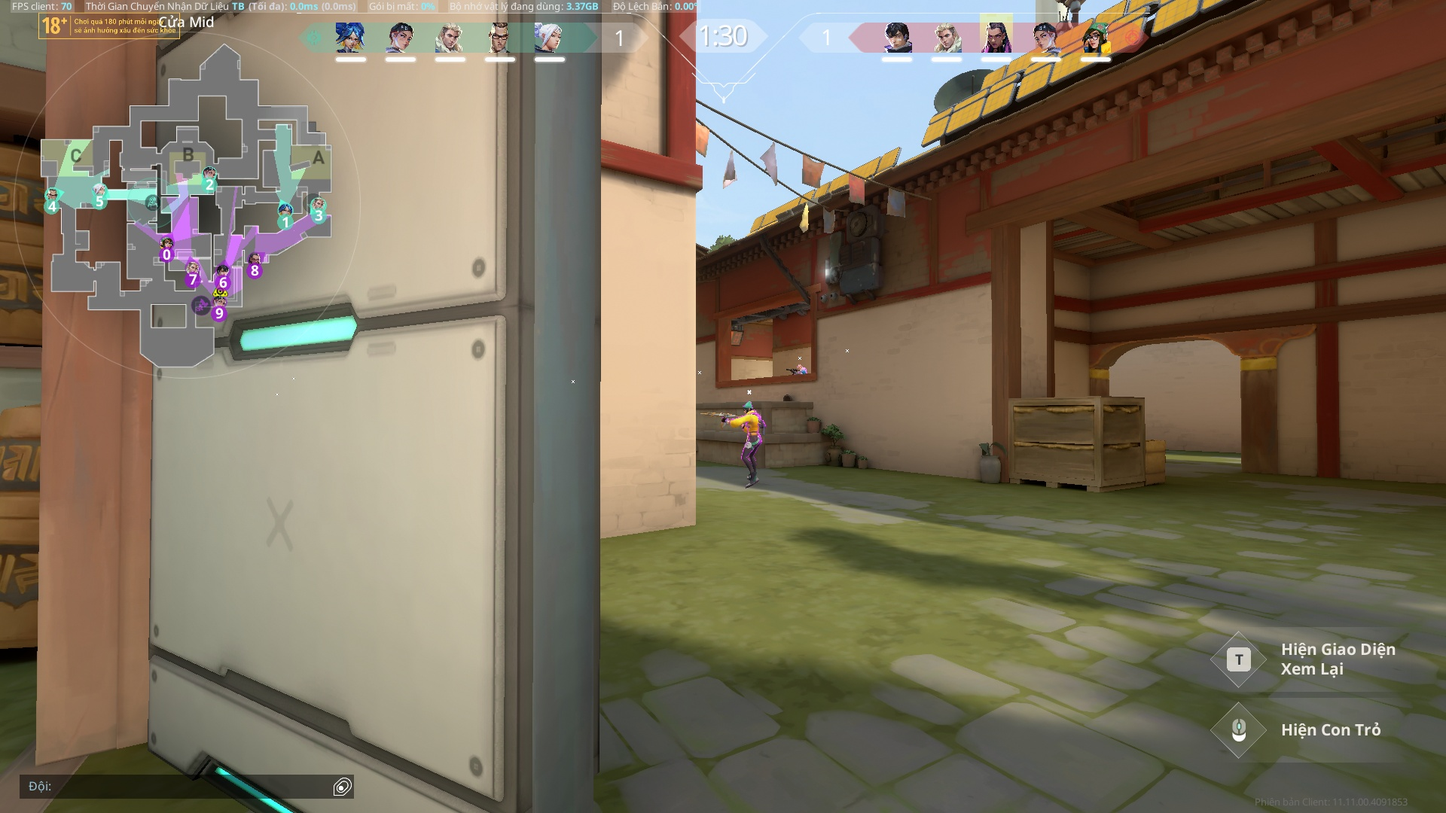body: (740, 412, 764, 432), (797, 367, 807, 374)
head: (743, 403, 755, 415), (796, 364, 803, 369)
